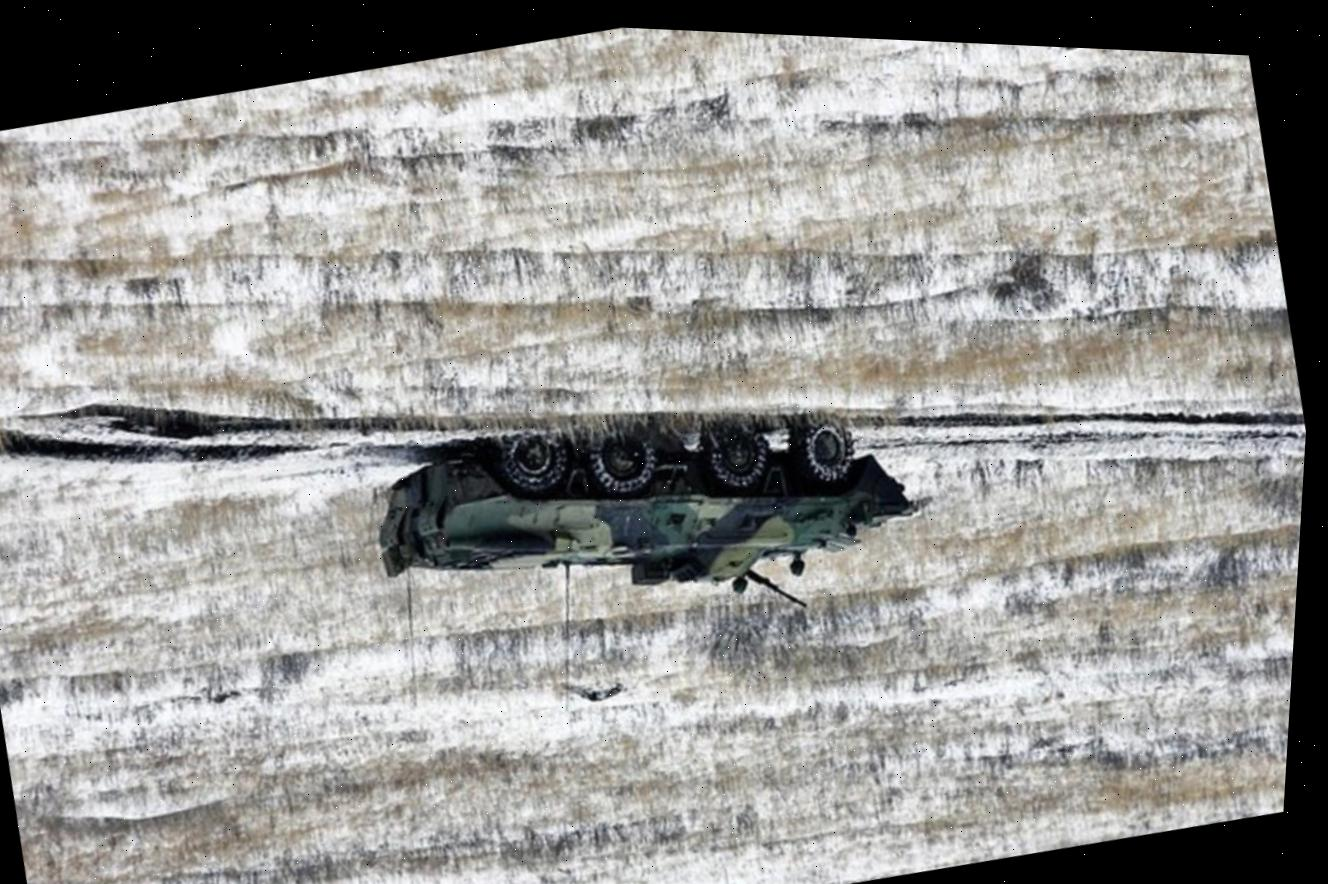tank: (350, 344, 943, 702)
